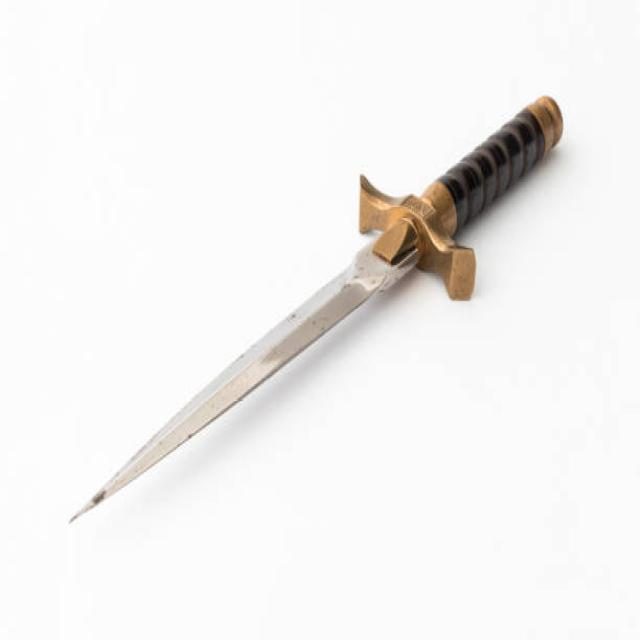knife: (36, 91, 596, 559)
